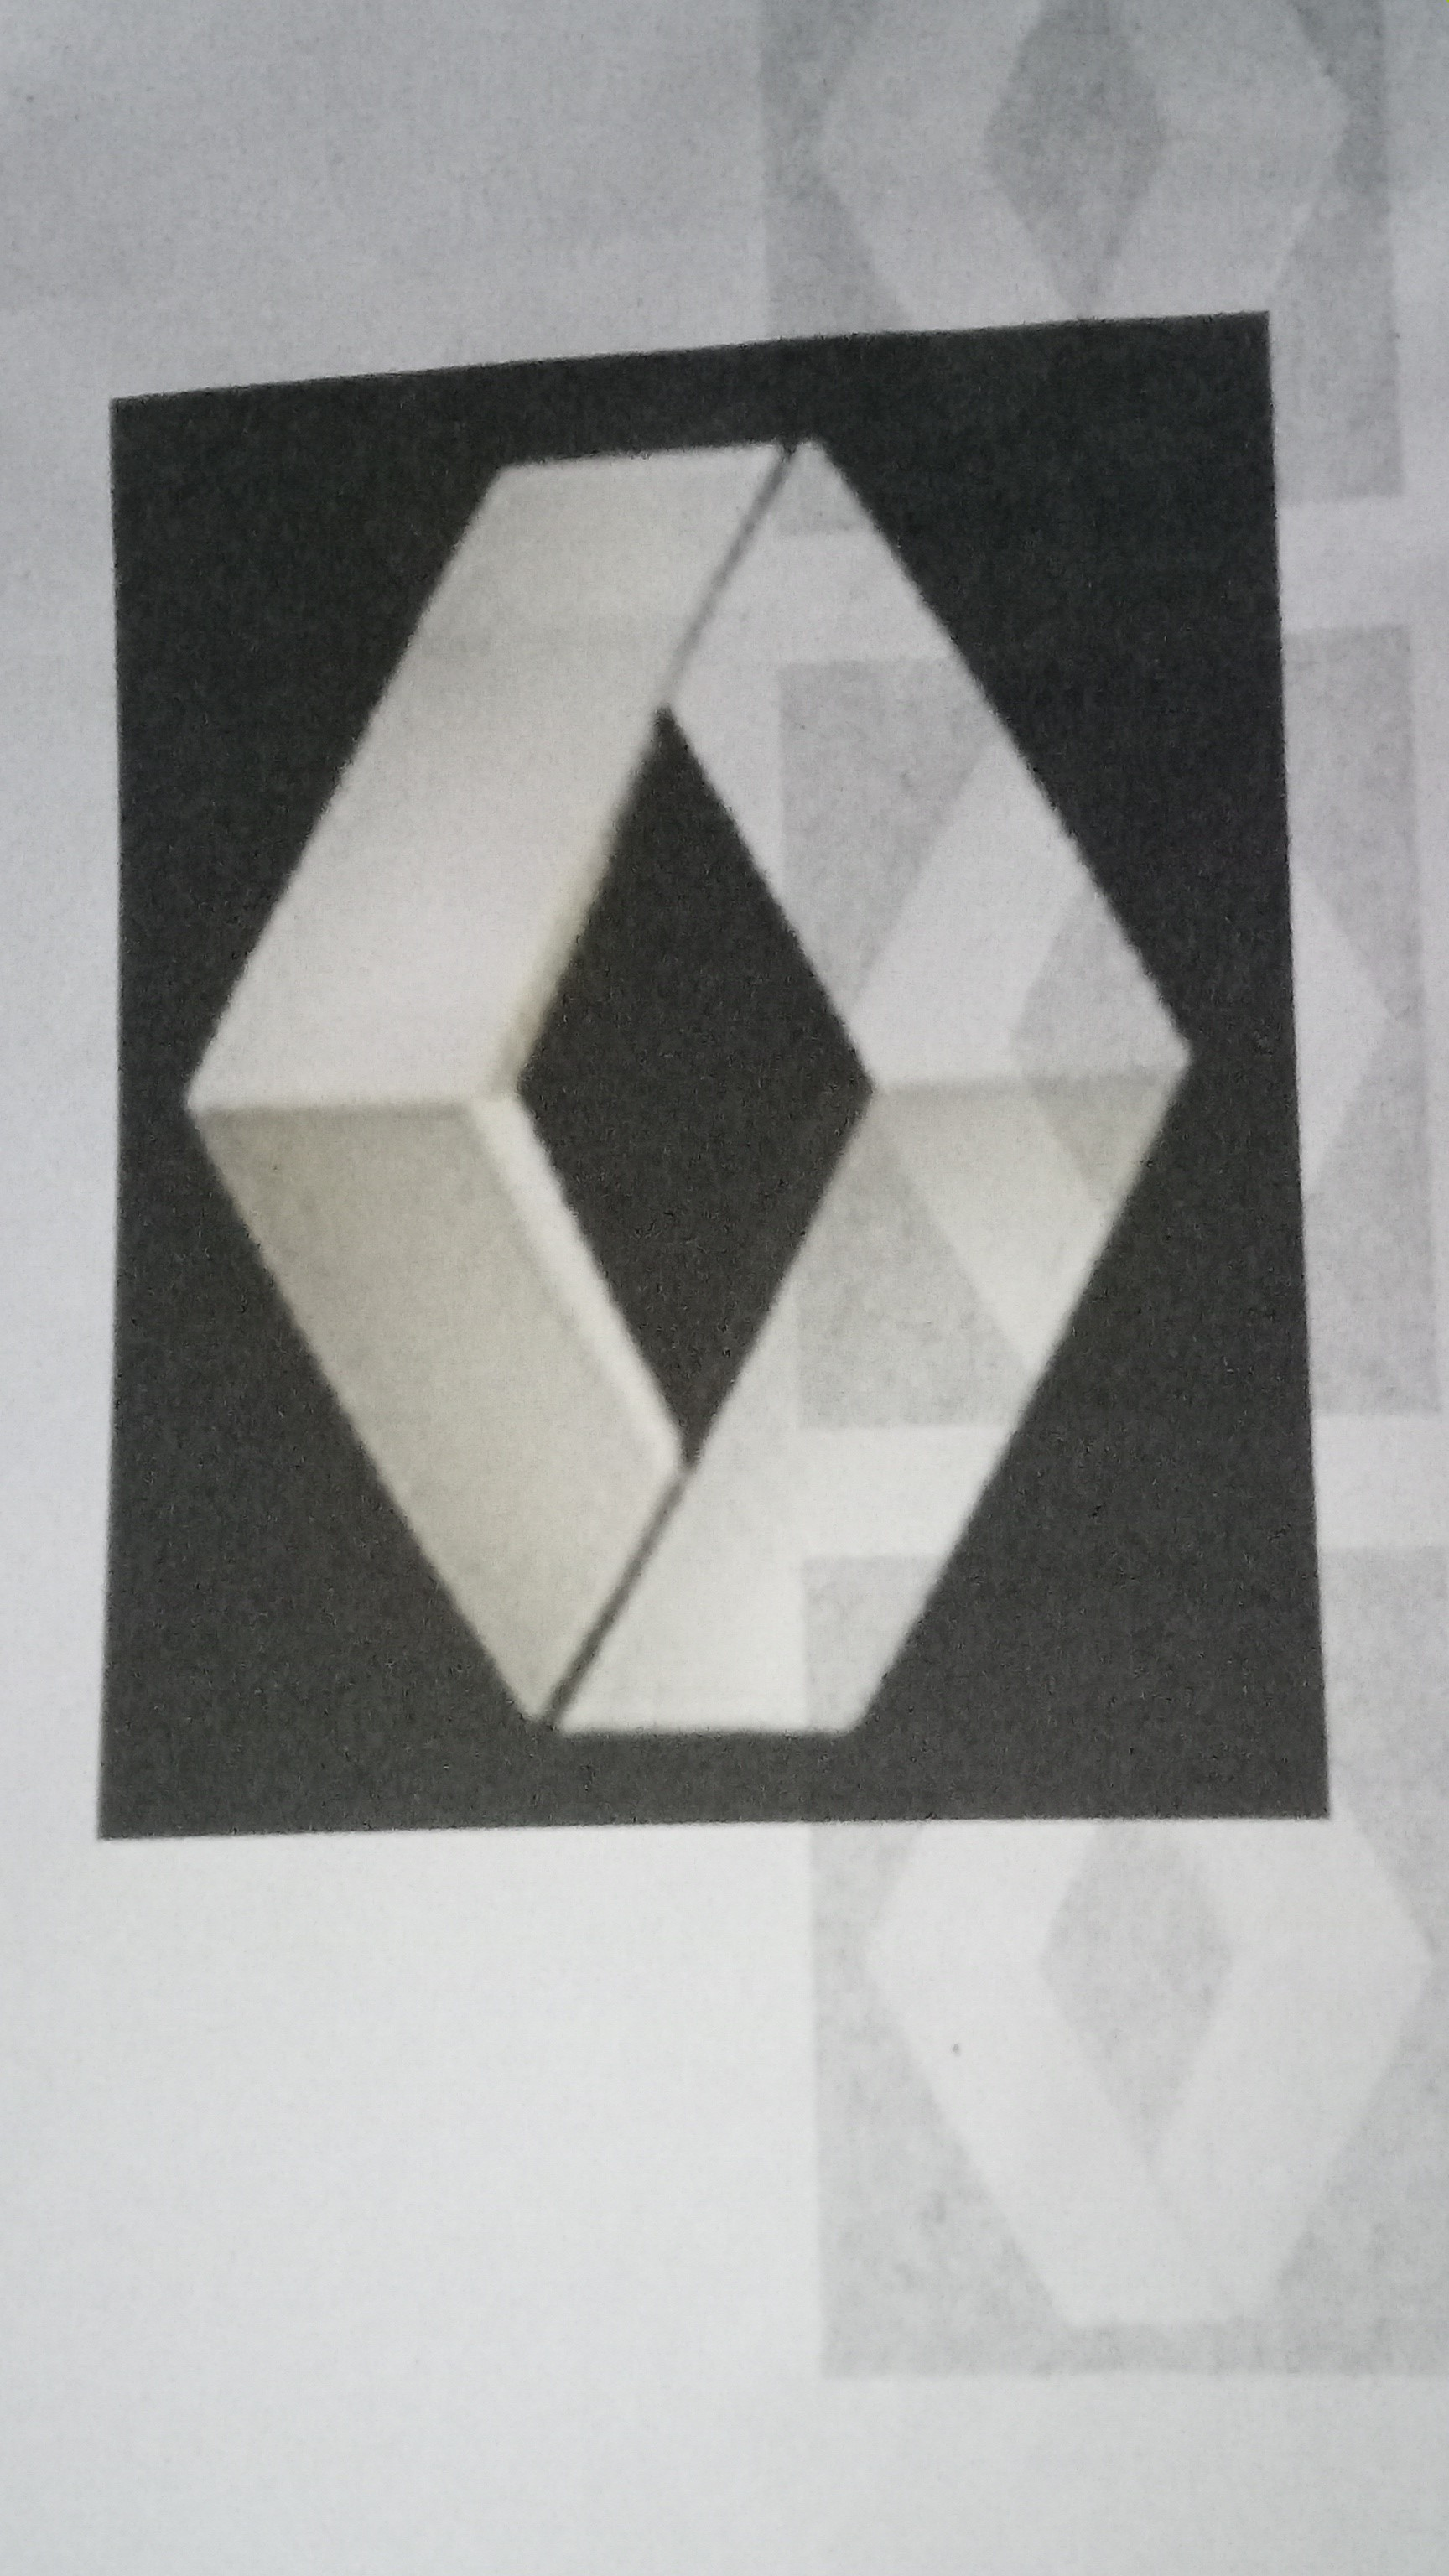Renault: (168, 396, 1251, 1821)
